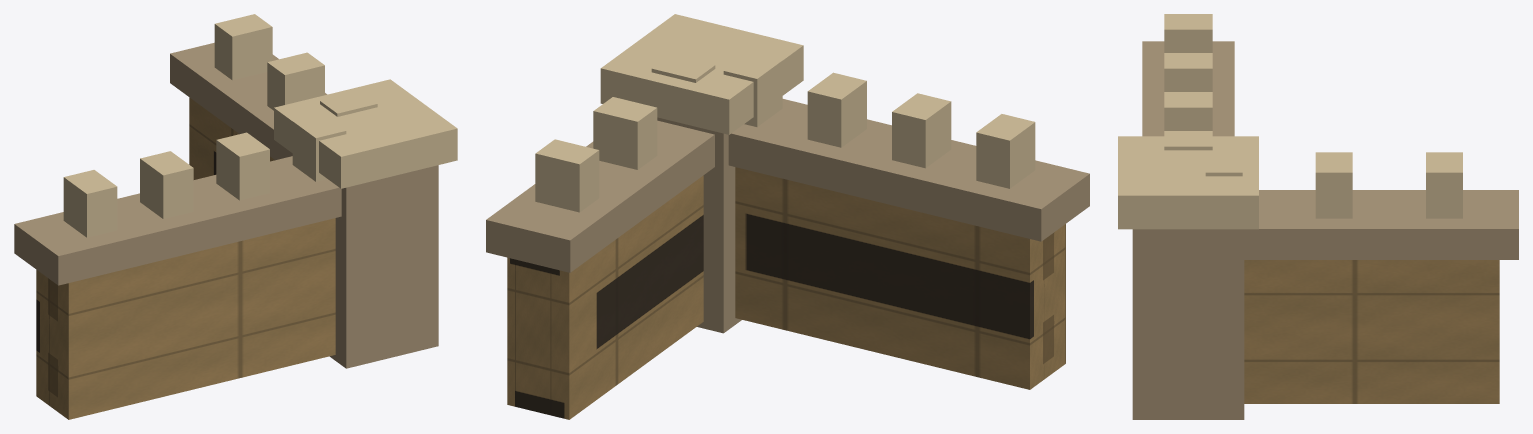
The model's file is city-module-corner-lod0.glb.
3 renders of one model, left to right at view 1: azimuth 30°, elevation 25°; view 2: azimuth 150°, elevation 25°; view 3: azimuth 270°, elevation 25°, orthographic. The views are drawn at different scales.
Parts seen in each view (by area): view 1: module_corner_wall_a_facade, module_corner_square_pier, module_corner_wall_a_top_walkway, module_corner_pier_cap, module_corner_wall_b_top_walkway, module_corner_wall_b_crenel_3, module_corner_wall_a_crenel_1, module_corner_wall_a_crenel_2, module_corner_wall_a_crenel_3, module_corner_wall_b_crenel_2, module_corner_wall_b_facade, module_corner_wall_a_crenel_4 (+1 smaller); view 2: module_corner_wall_a_facade, module_corner_wall_b_facade, module_corner_wall_a_top_walkway, module_corner_wall_b_top_walkway, module_corner_pier_cap, module_corner_square_pier, module_corner_wall_b_crenel_3, module_corner_wall_b_crenel_2, module_corner_wall_a_crenel_2, module_corner_wall_a_crenel_3, module_corner_wall_a_crenel_1, module_corner_wall_a_crenel_4 (+1 smaller); view 3: module_corner_wall_b_facade, module_corner_square_pier, module_corner_wall_b_top_walkway, module_corner_pier_cap, module_corner_wall_a_top_walkway, module_corner_wall_b_crenel_2, module_corner_wall_b_crenel_3, module_corner_wall_a_crenel_1, module_corner_wall_a_crenel_2, module_corner_wall_a_crenel_3, module_corner_wall_a_crenel_4, module_corner_wall_b_crenel_1.
Part boxes in pixels (x1,y1,x2,y2): module_corner_wall_a_facade: (36, 218, 335, 419); module_corner_square_pier: (329, 165, 438, 368); module_corner_wall_a_top_walkway: (14, 156, 341, 285); module_corner_pier_cap: (274, 79, 457, 188); module_corner_wall_b_top_walkway: (170, 42, 327, 160); module_corner_wall_b_crenel_3: (214, 14, 272, 80); module_corner_wall_a_crenel_1: (63, 170, 117, 237); module_corner_wall_a_crenel_2: (140, 151, 193, 218); module_corner_wall_a_crenel_3: (216, 132, 269, 200); module_corner_wall_b_crenel_2: (267, 52, 324, 110); module_corner_wall_b_facade: (189, 97, 274, 179); module_corner_wall_a_crenel_4: (292, 114, 346, 181); module_corner_wall_a_facade: (735, 167, 1065, 389); module_corner_wall_b_facade: (507, 175, 703, 419); module_corner_wall_a_top_walkway: (728, 99, 1089, 241); module_corner_wall_b_top_walkway: (486, 120, 714, 272); module_corner_pier_cap: (600, 14, 803, 134); module_corner_square_pier: (657, 117, 741, 333); module_corner_wall_b_crenel_3: (535, 139, 599, 212); module_corner_wall_b_crenel_2: (593, 97, 657, 169); module_corner_wall_a_crenel_2: (892, 93, 951, 168); module_corner_wall_a_crenel_3: (807, 72, 866, 147); module_corner_wall_a_crenel_1: (976, 114, 1035, 188); module_corner_wall_a_crenel_4: (723, 52, 782, 126); module_corner_wall_b_facade: (1244, 260, 1499, 403); module_corner_square_pier: (1132, 229, 1244, 419); module_corner_wall_b_top_walkway: (1244, 190, 1518, 259); module_corner_pier_cap: (1118, 136, 1258, 229); module_corner_wall_a_top_walkway: (1142, 41, 1234, 136); module_corner_wall_b_crenel_2: (1315, 152, 1352, 218); module_corner_wall_b_crenel_3: (1426, 152, 1462, 218); module_corner_wall_a_crenel_1: (1164, 14, 1212, 52); module_corner_wall_a_crenel_2: (1164, 53, 1212, 91); module_corner_wall_a_crenel_3: (1164, 92, 1212, 130); module_corner_wall_a_crenel_4: (1164, 131, 1212, 150); module_corner_wall_b_crenel_1: (1205, 152, 1242, 176).
Size of the model in its own units: 0.4825 by 0.2655 by 0.4125.
Materials: 3 (1 with a texture image).
